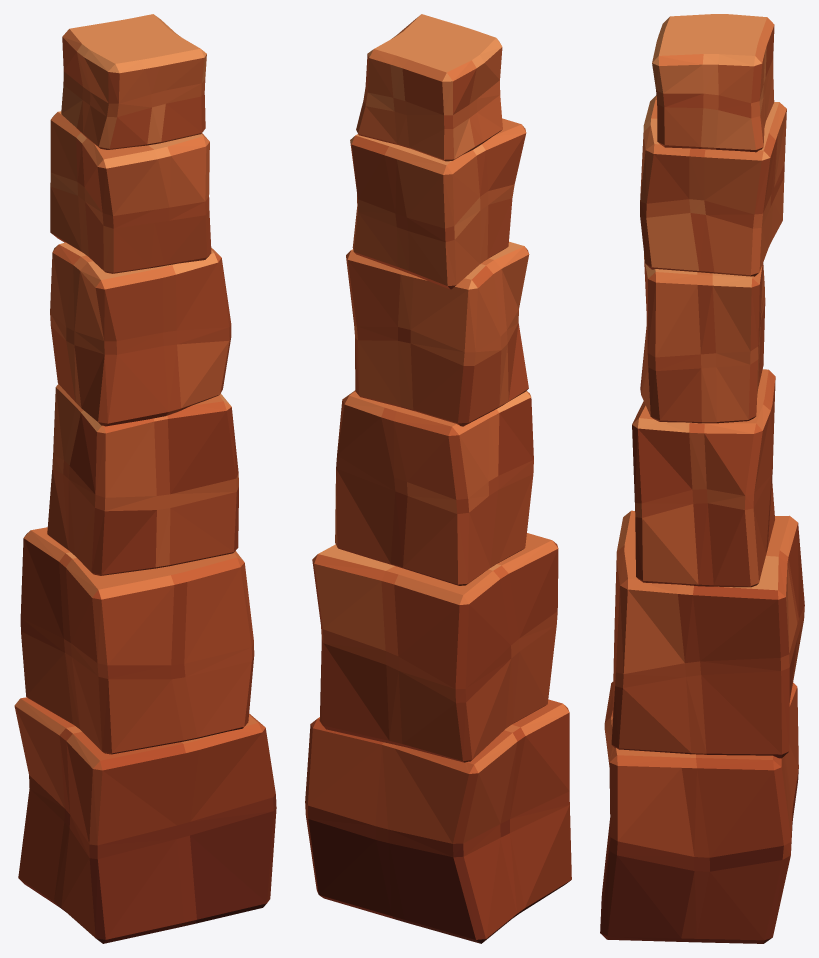
Rendered from SM_ROCK_PILLAR_01.fbx.
3 views of the same model, side by side, from view 1: azimuth 30°, elevation 25°; view 2: azimuth 150°, elevation 25°; view 3: azimuth 270°, elevation 25° (orthographic).
Visible parts, largest first — view 1: ROCK_PILLAR_01; view 2: ROCK_PILLAR_01; view 3: ROCK_PILLAR_01.
Boxes of the visible parts, x1,y1,x2,y2 form: ROCK_PILLAR_01: [14, 14, 276, 943]; ROCK_PILLAR_01: [305, 14, 571, 943]; ROCK_PILLAR_01: [600, 14, 804, 943].
Bounding box in the file's own units: 1.7 × 1.61 × 7.5.
